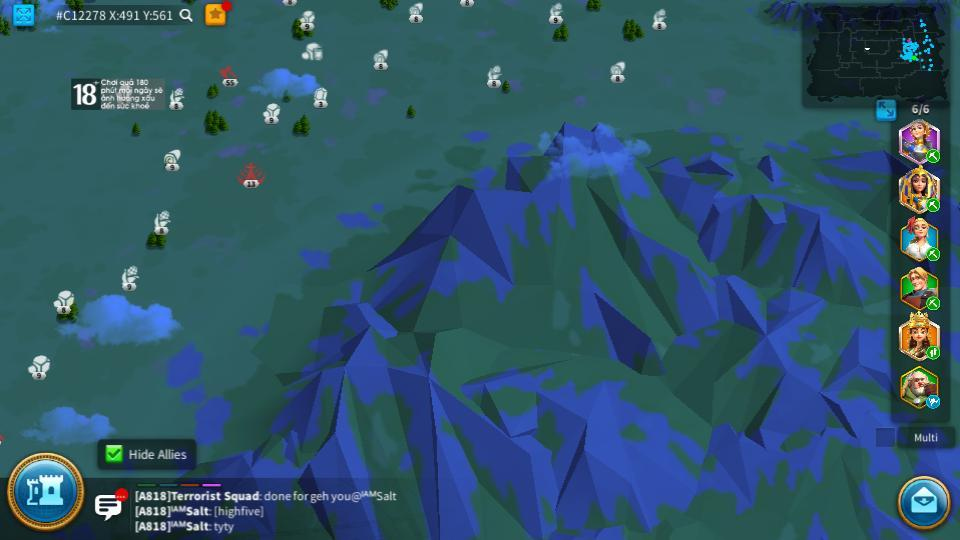march_idle: (925, 396, 942, 408)
march_marching: (925, 196, 941, 211), (925, 297, 942, 310), (925, 149, 941, 162), (925, 248, 942, 260), (924, 347, 939, 359)
